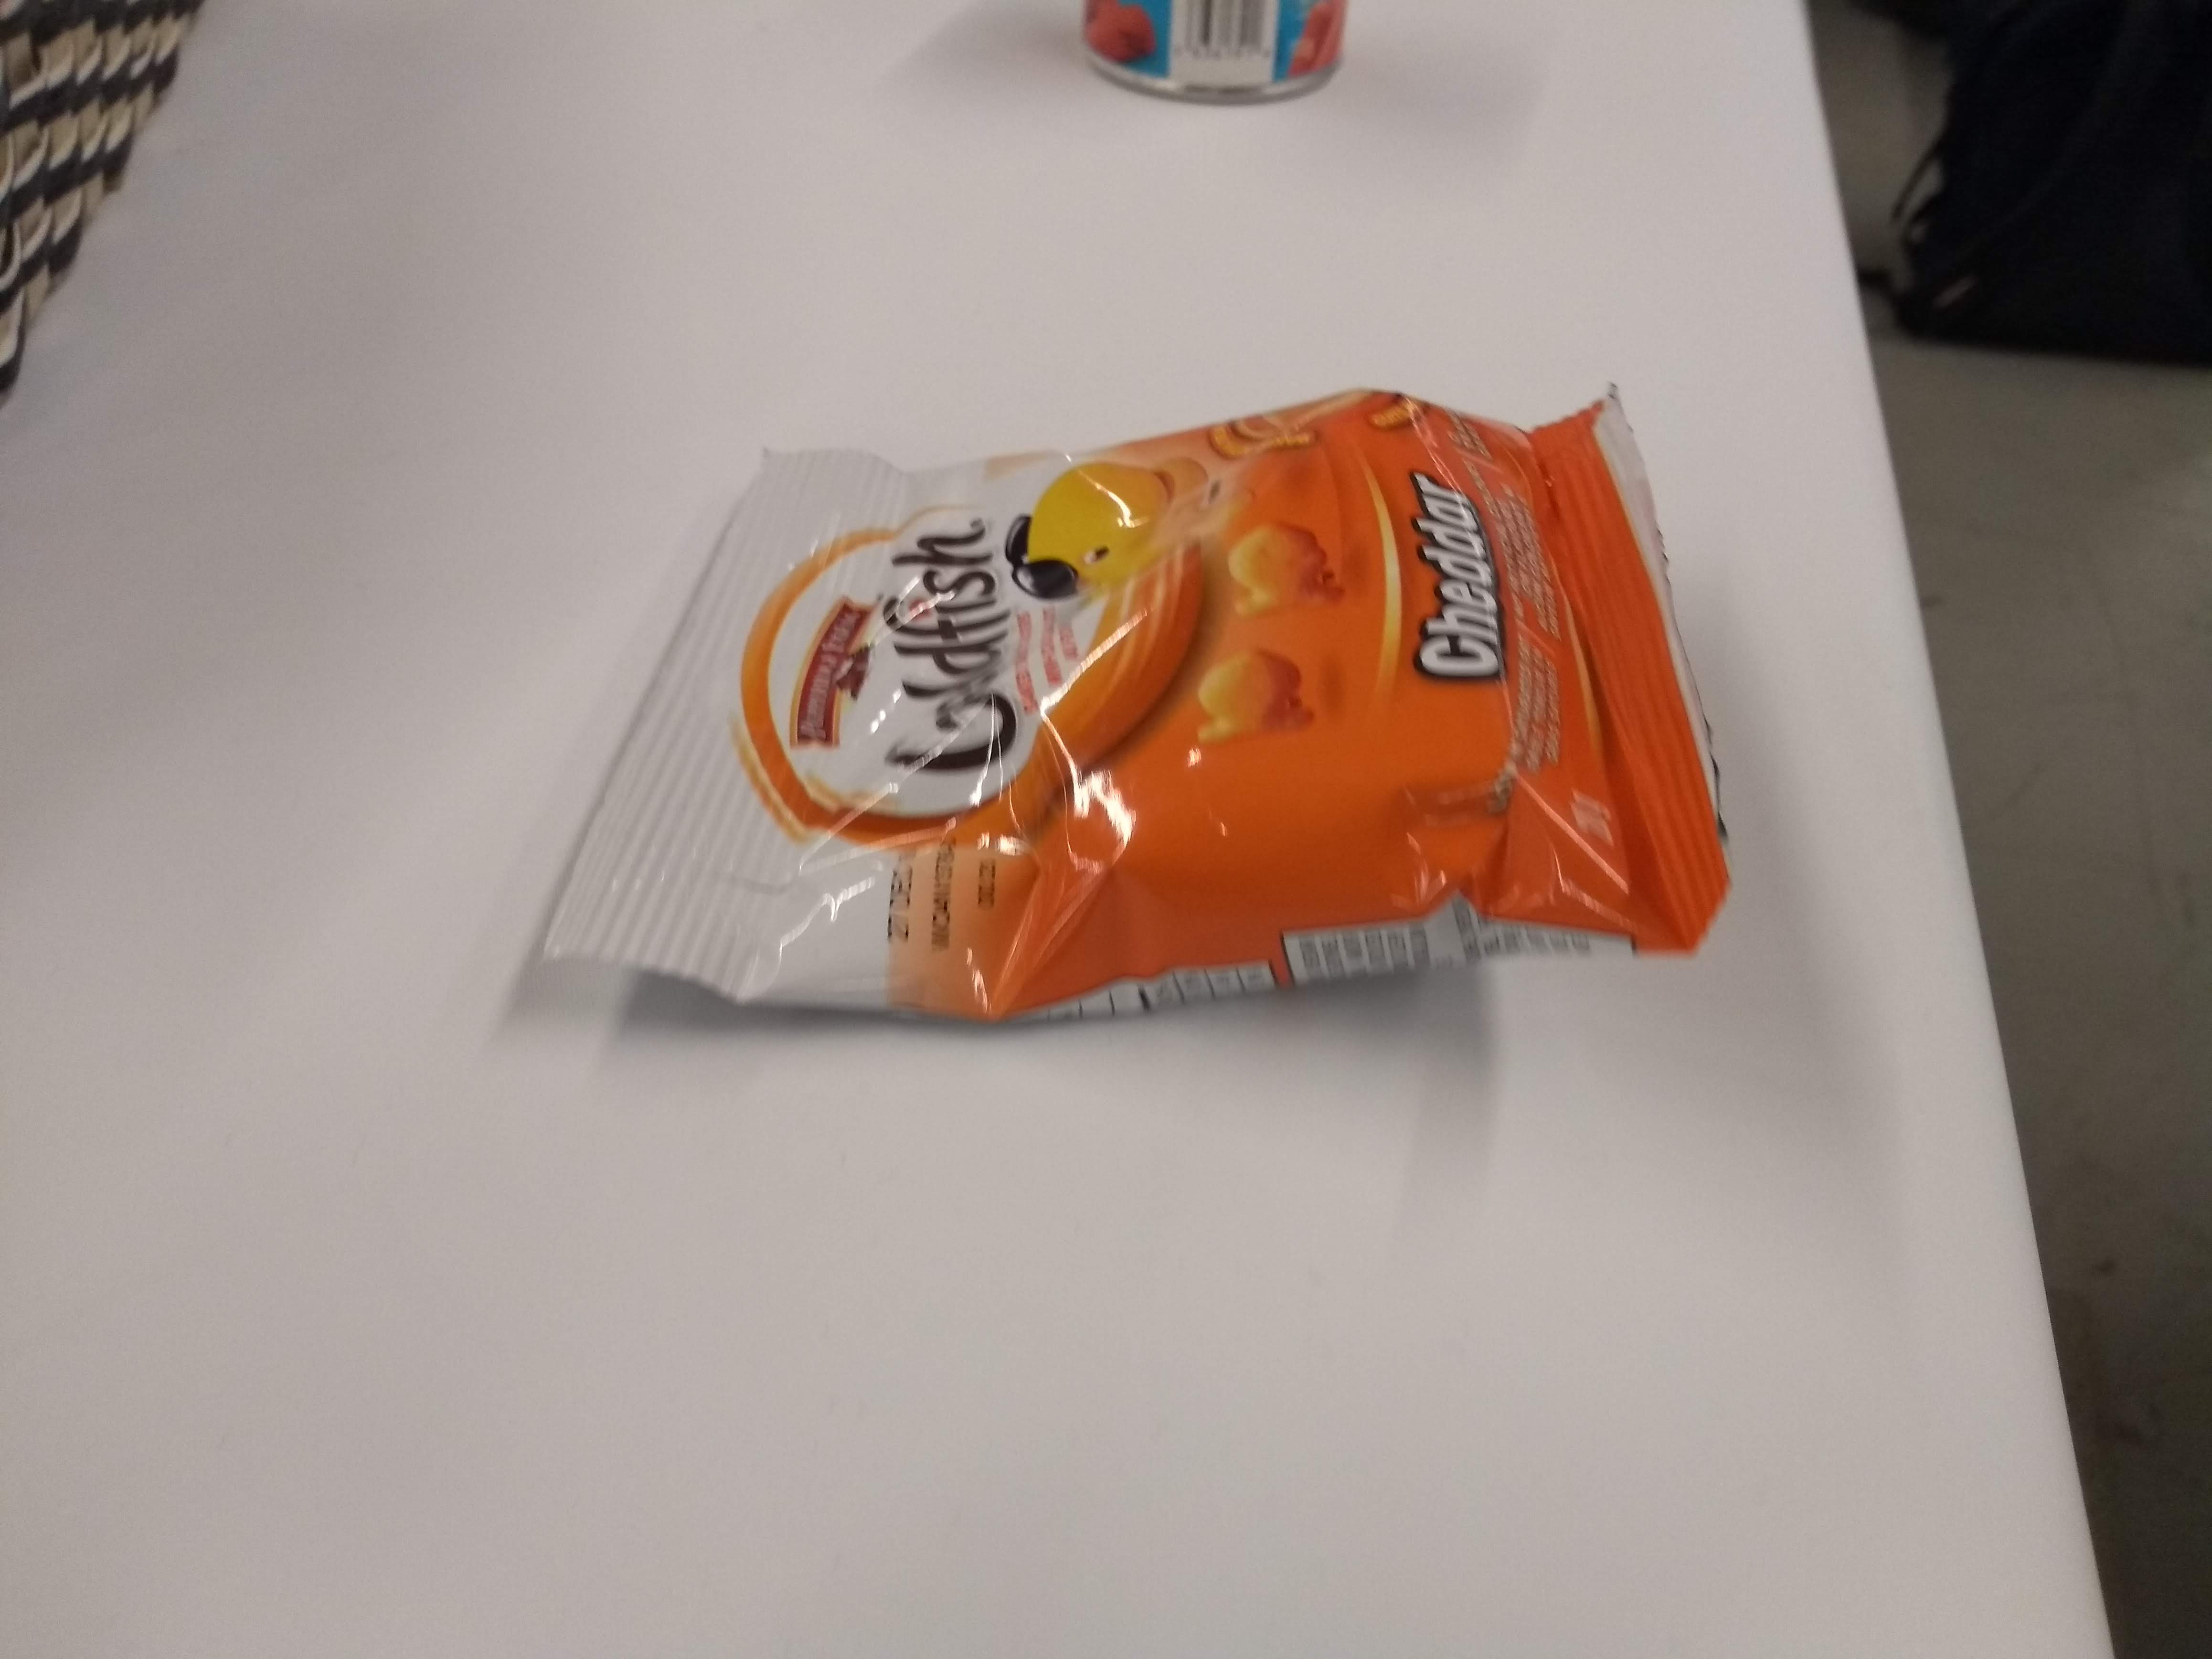crackers: (535, 368, 1750, 1035)
